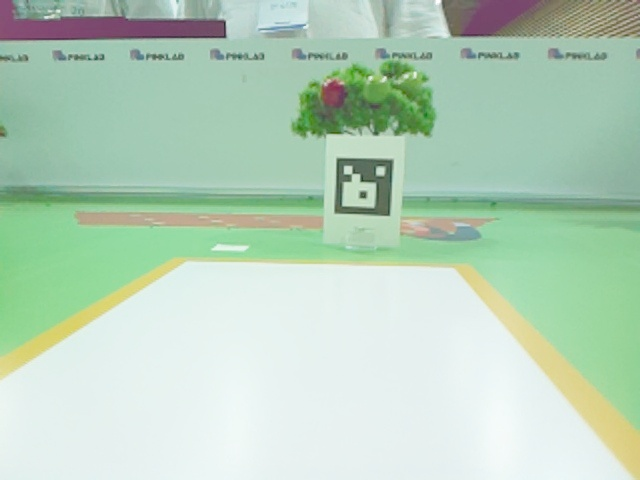apple: (320, 78, 348, 107)
